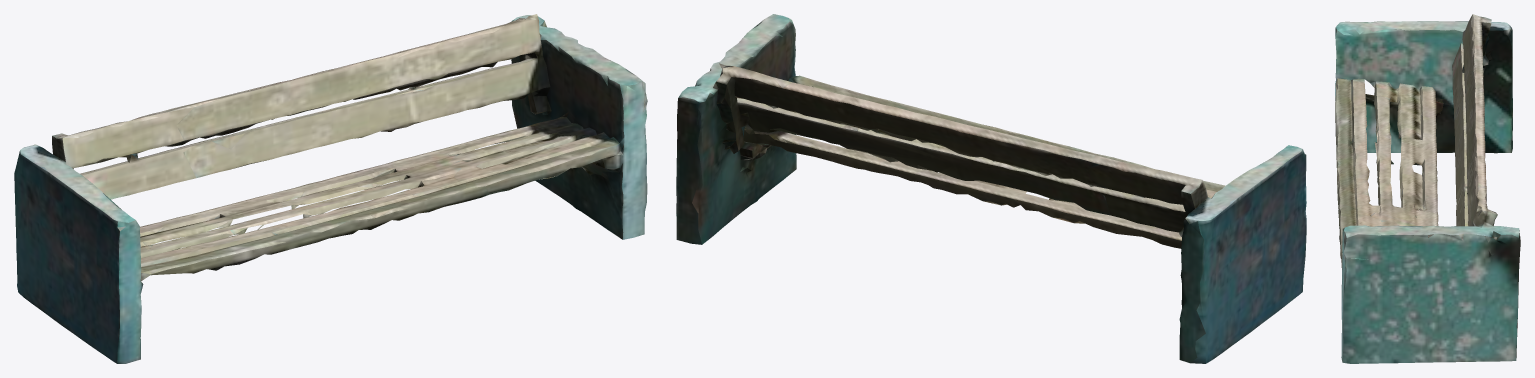
Rendered from bench.glb.
3 renders of one model, left to right at view 1: azimuth 30°, elevation 25°; view 2: azimuth 150°, elevation 25°; view 3: azimuth 270°, elevation 25°, orthographic. The views are drawn at different scales.
Visible parts, largest first — view 1: Bench; view 2: Bench; view 3: Bench.
Boxes of the visible parts, box(x1,y1,x2,y2) form: Bench: box(14, 14, 647, 363); Bench: box(676, 14, 1306, 363); Bench: box(1335, 14, 1520, 363).
Bounding box in the file's own units: 2.5 × 0.7465 × 0.8828.
Materials: 1 (1 with a texture image).
